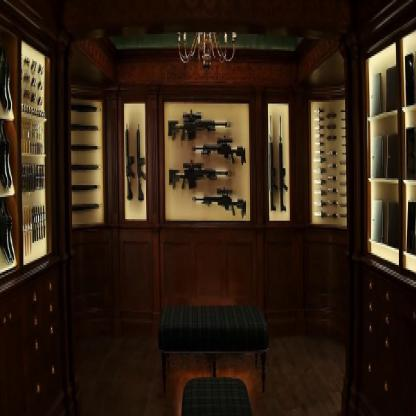Gun: (163, 98, 248, 218), (123, 100, 146, 214), (268, 102, 288, 214)
